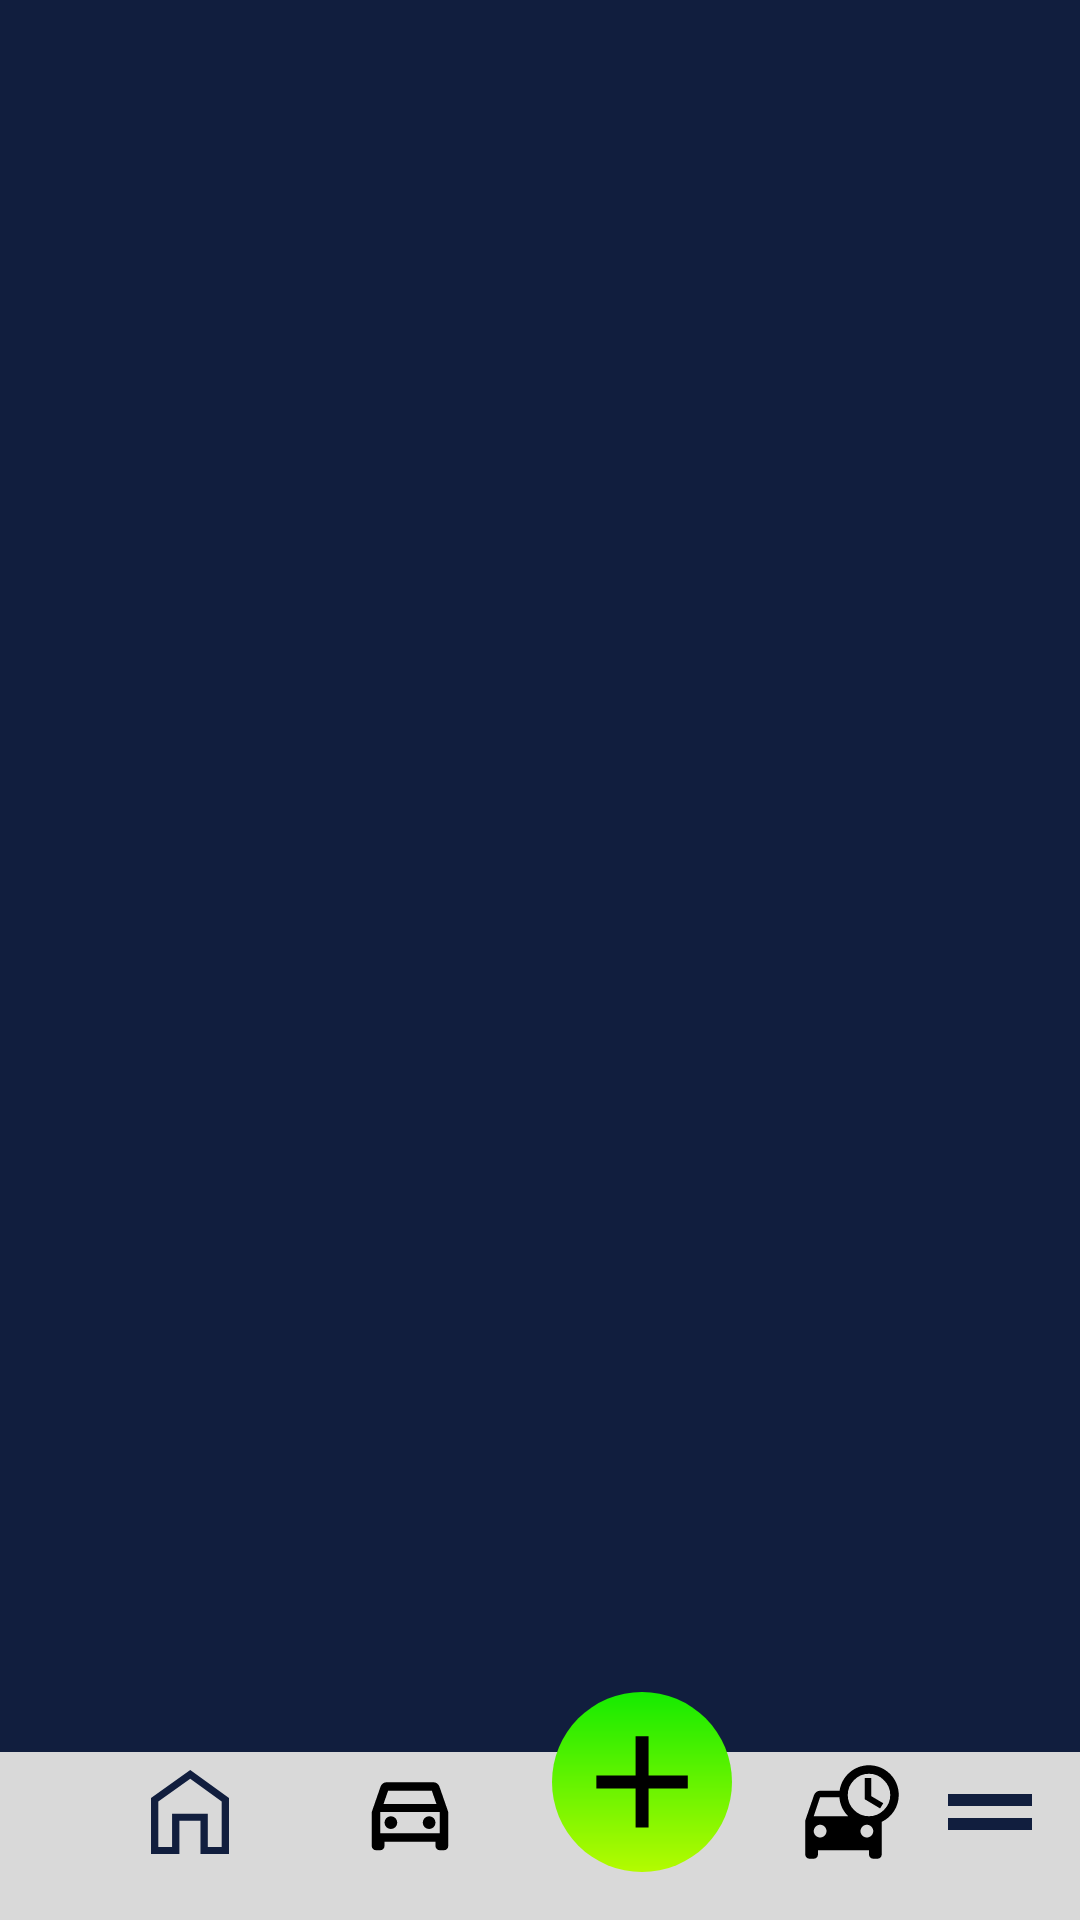

Point at icon controls on the screen. Image size 1080px×1920px, points as point (x, y).
car clock: point (852, 1812)
directions car: point (410, 1816)
home: point (190, 1812)
options: point (990, 1812)
plus: point (642, 1782)
